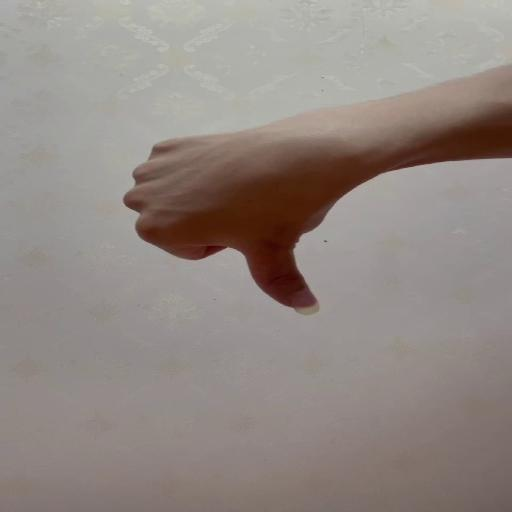thumbs_down: (128, 135, 370, 316)
